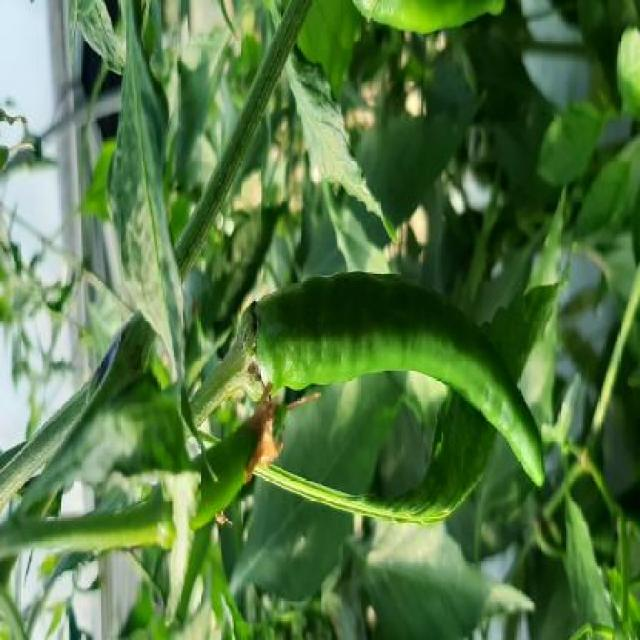green chilli: (197, 271, 545, 486)
